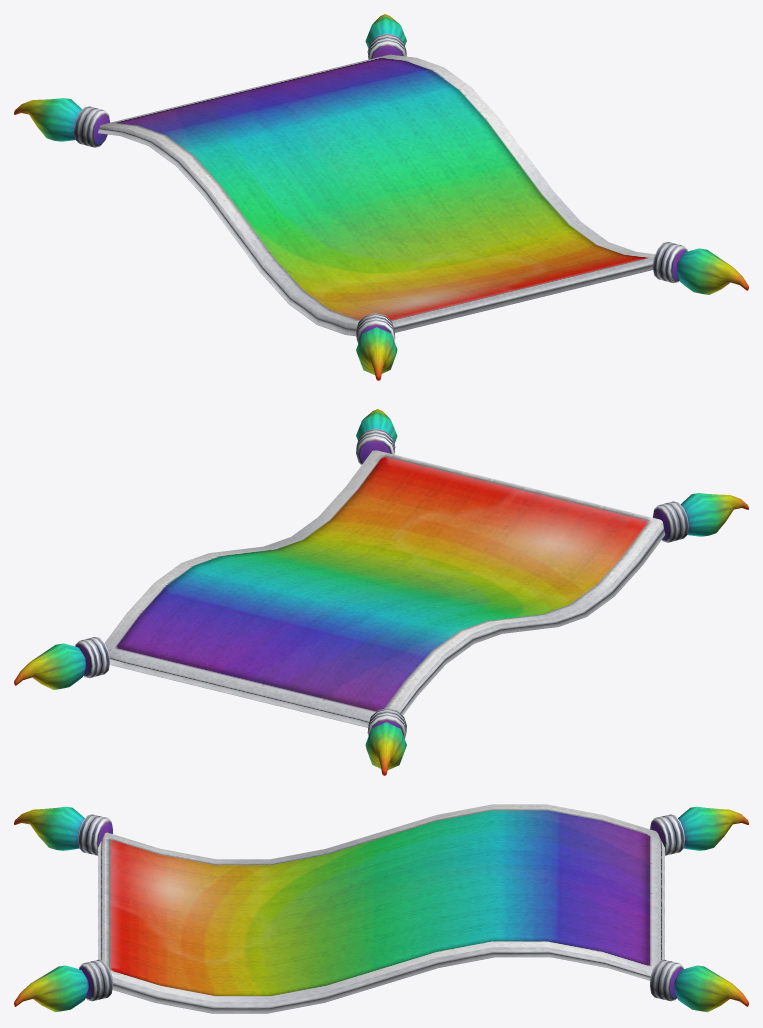
The model's file is MagicCover.fbx.
3 renders of one model, top to bottom at view 1: azimuth 30°, elevation 25°; view 2: azimuth 150°, elevation 25°; view 3: azimuth 270°, elevation 25°, orthographic.
Parts seen in each view (by area): view 1: Magic Cover; view 2: Magic Cover; view 3: Magic Cover.
Part boxes in pixels (box(x1,y1,x2,y2)): Magic Cover: box(14, 14, 748, 380); Magic Cover: box(14, 409, 748, 775); Magic Cover: box(14, 804, 748, 1013).
Size of the model in its own units: 238 by 38.97 by 403.
